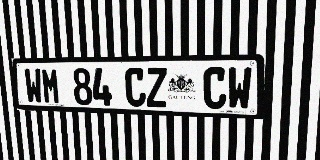4: (91, 68, 112, 106)
8: (72, 68, 93, 105)
C: (203, 67, 227, 109), (125, 68, 146, 107)
M: (41, 68, 61, 104)
W: (227, 67, 252, 110), (24, 68, 43, 104)
Z: (146, 67, 167, 107)
